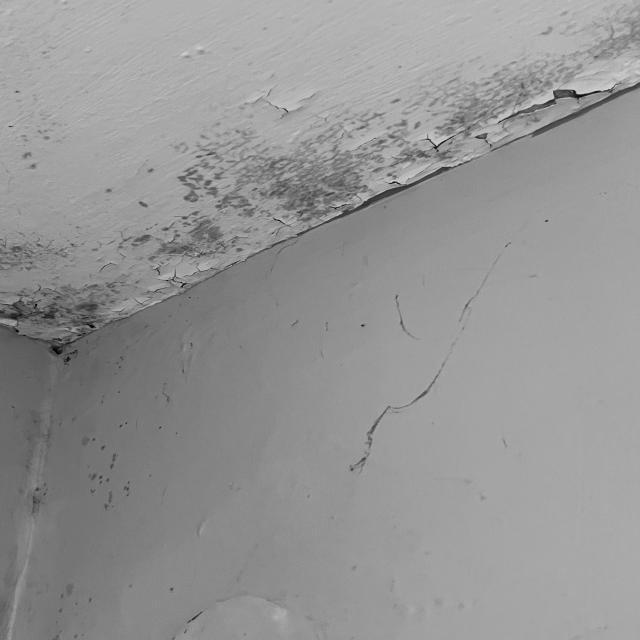peeling paint: (254, 58, 639, 240)
stain marks: (0, 0, 640, 640)
